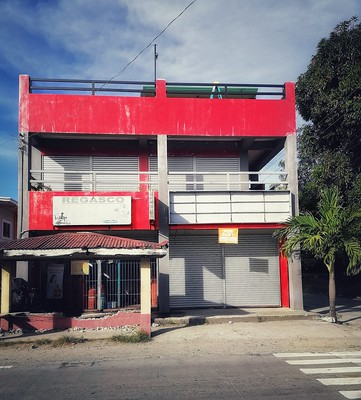medium: (6, 70, 306, 340)
